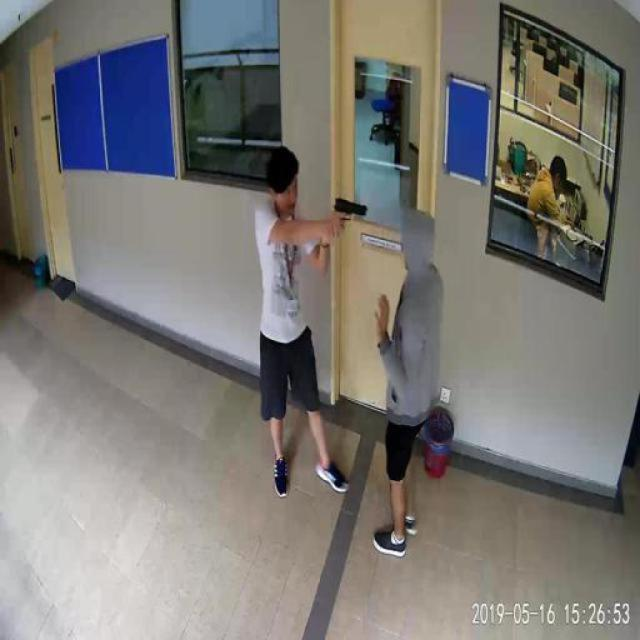pistol: (332, 192, 367, 234)
